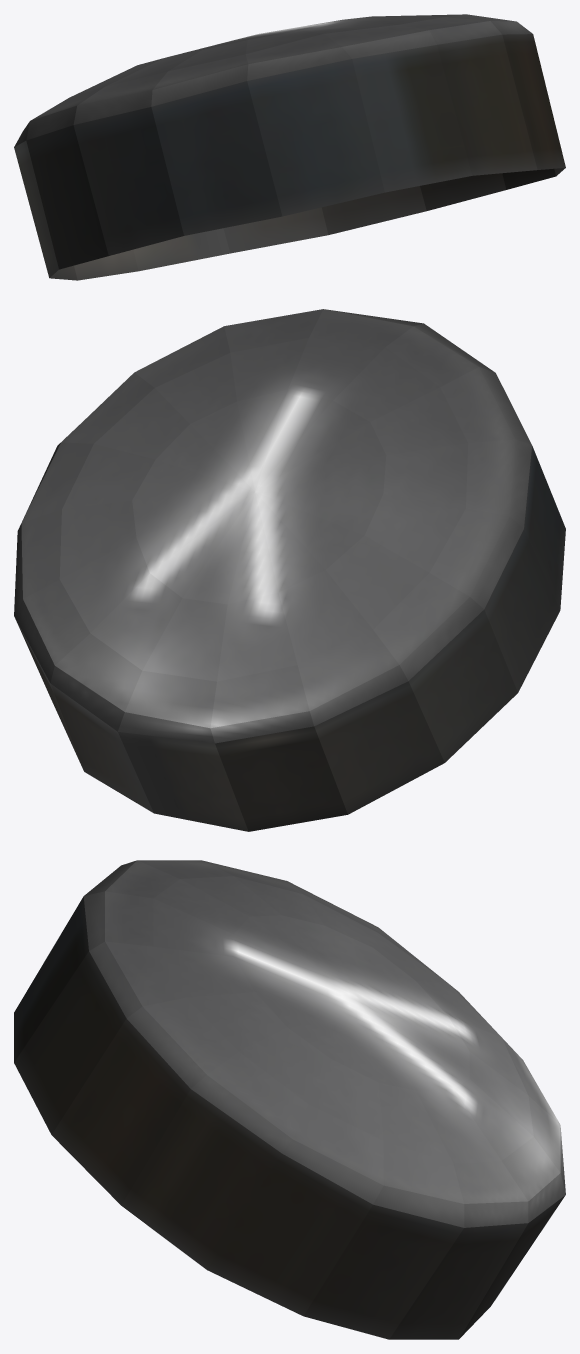
File: YVR_d3_left_Ybutton.obj
3 renders of one model, top to bottom at view 1: azimuth 30°, elevation 25°; view 2: azimuth 150°, elevation 25°; view 3: azimuth 270°, elevation 25°, orthographic. The views are drawn at different scales.
Visible parts, largest first — view 1: yvr_d3_left_Ybutton; view 2: yvr_d3_left_Ybutton; view 3: yvr_d3_left_Ybutton.
Part boxes in pixels (box(x1,y1,x2,y2)): yvr_d3_left_Ybutton: box(14, 14, 565, 280); yvr_d3_left_Ybutton: box(14, 309, 565, 831); yvr_d3_left_Ybutton: box(14, 860, 565, 1339).
Bounding box in the file's own units: 0.0104 × 0.0078 × 0.0103.
1 material, 1 textured.
